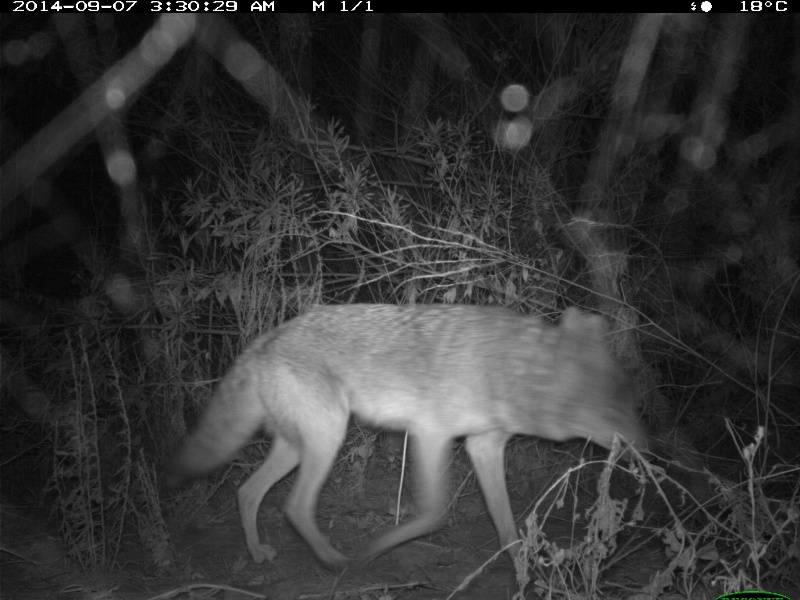coyote: (169, 300, 648, 573)
